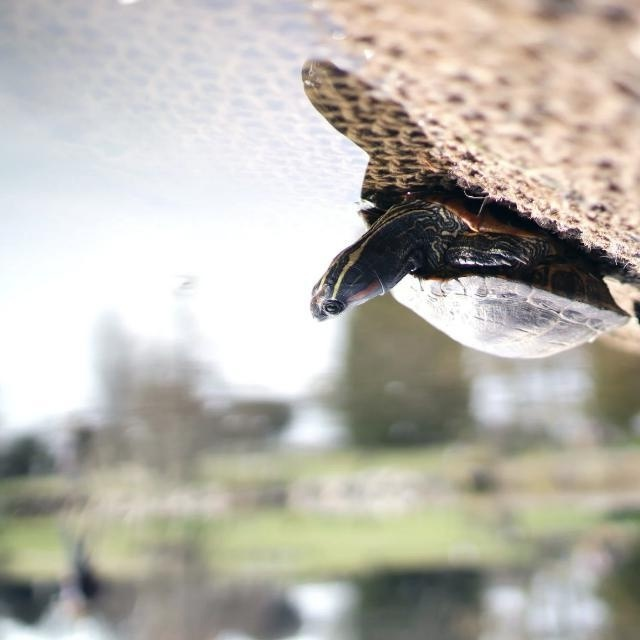turtle: (308, 178, 630, 372)
